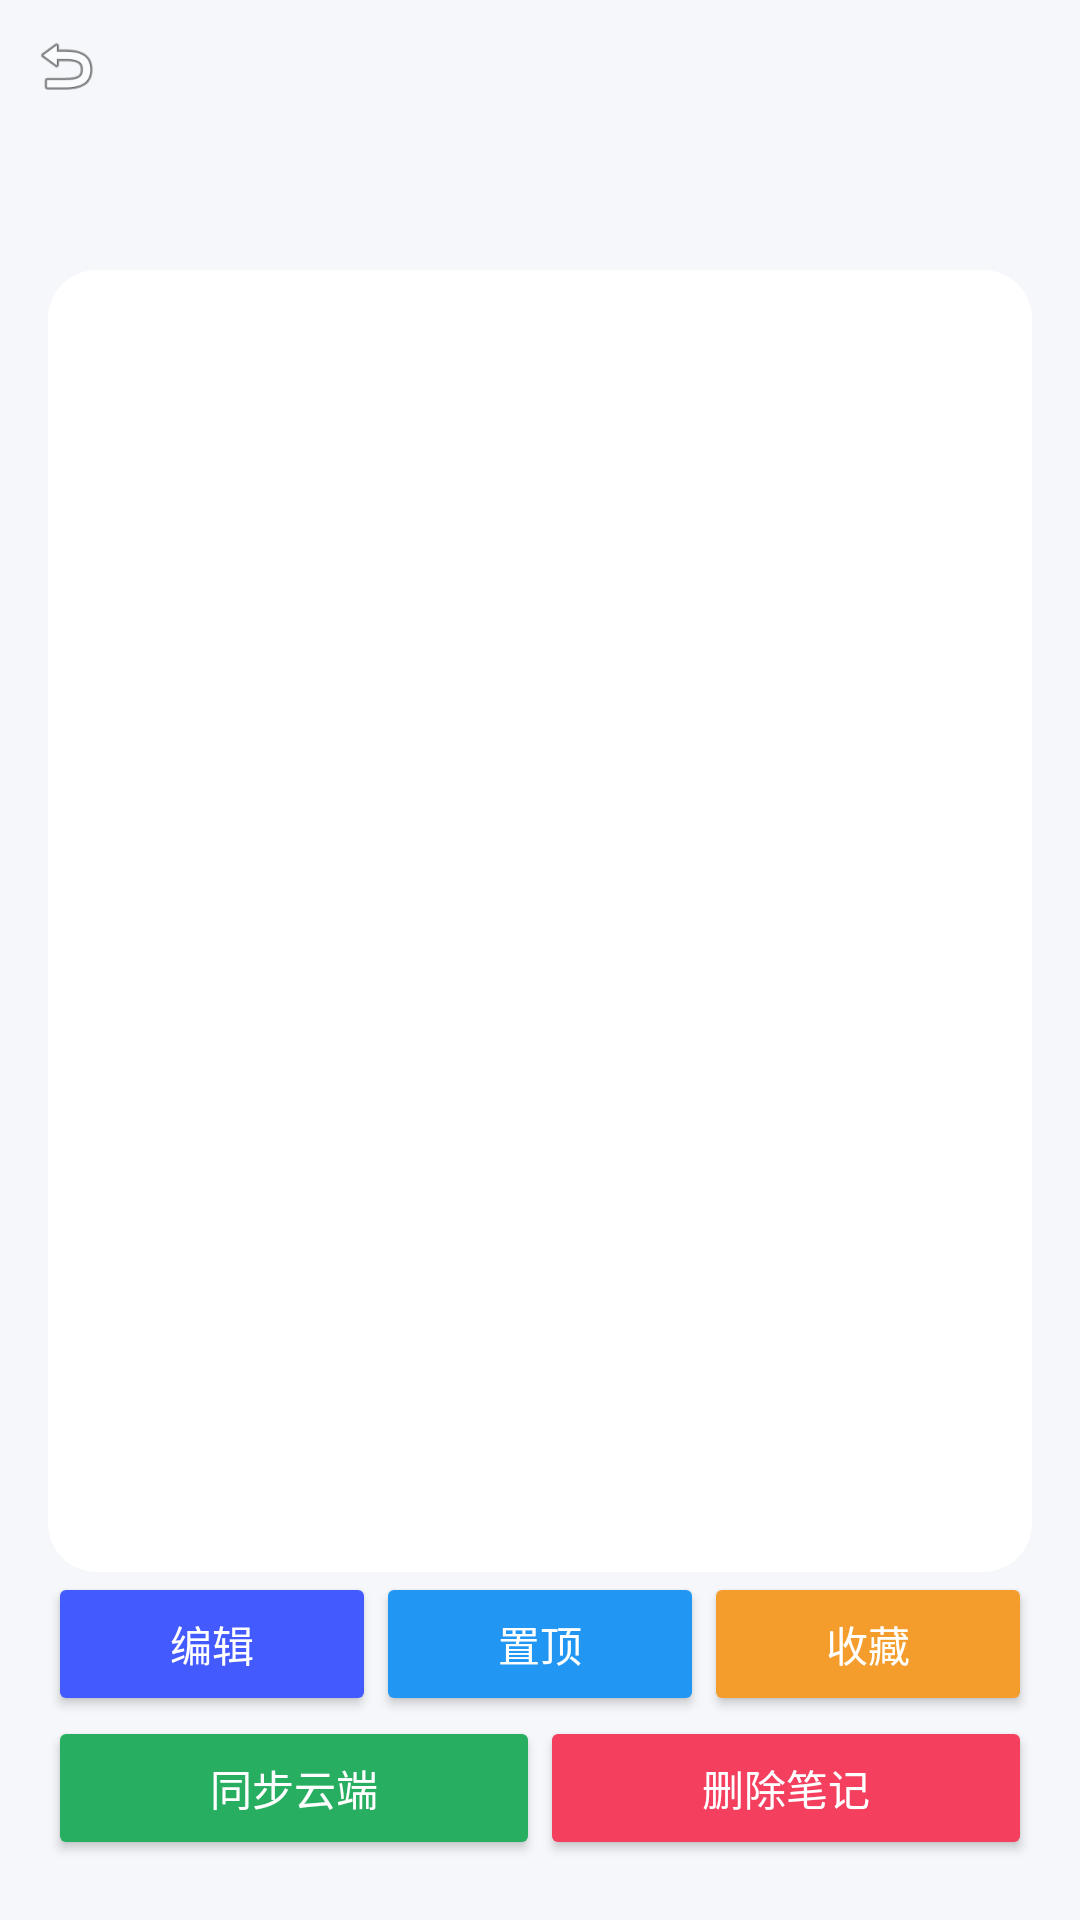

Icon bounding boxes for this 1080×1920 phone screenshot, format (x1,y1,x2,y2):
返回: (41,43,93,90)
